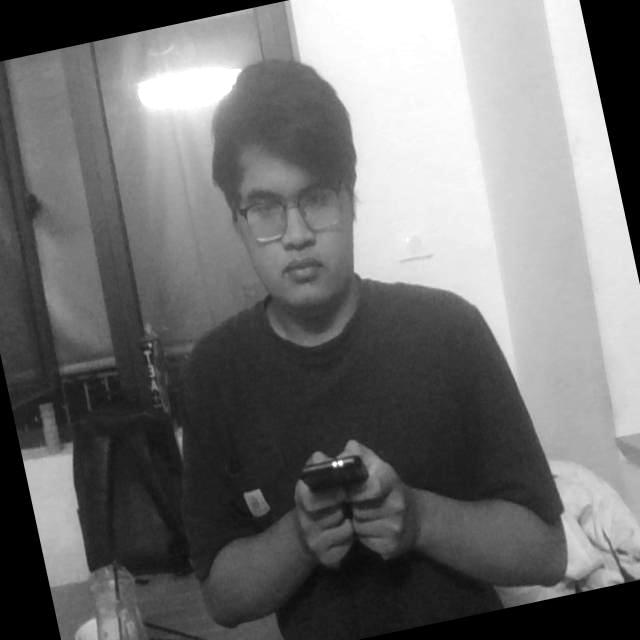phone: (284, 430, 381, 520)
